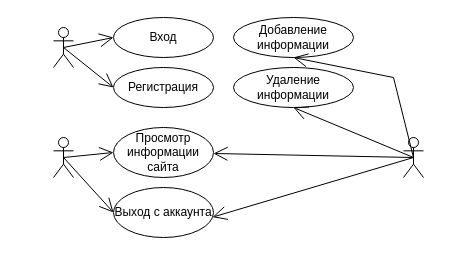
This 474x255 diagram has some shape labels left out. Each missing label, with the centre of its shape:
"Авторизованный пользователь" belongs at pixel 63 157.
"Администратор" belongs at pixel 413 157.
"Гость" belongs at pixel 63 47.
